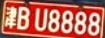B: (17, 7, 30, 30)
